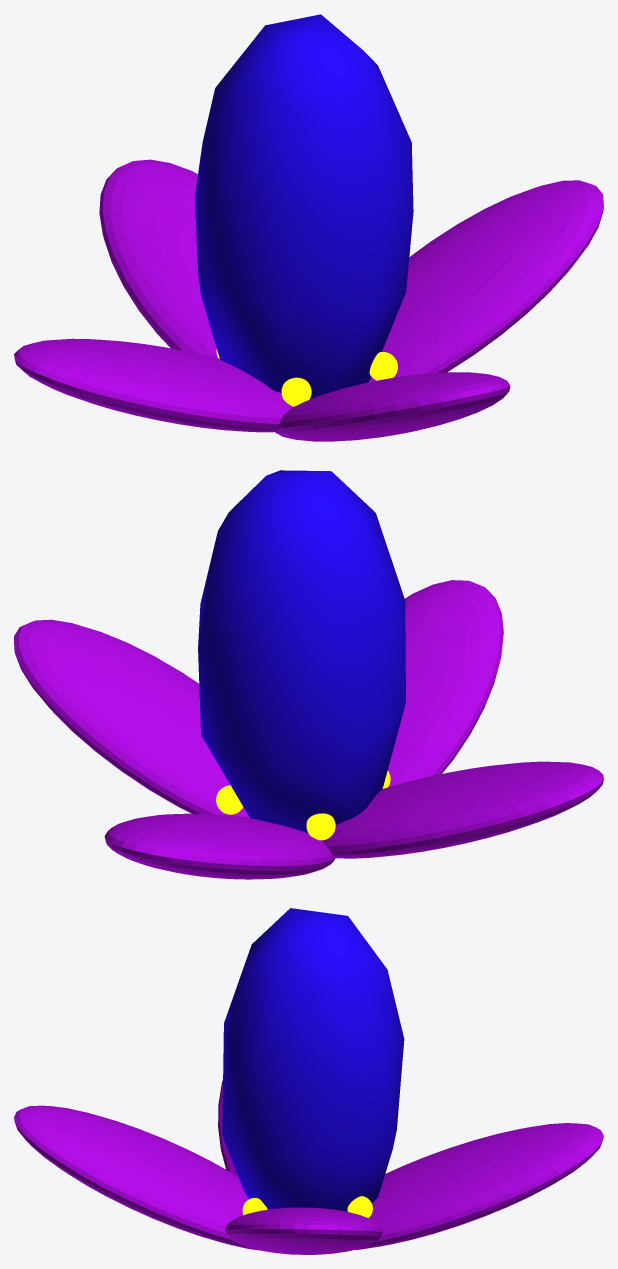
File: Fruit.fbx
The picture shows the model from 3 angles, top to bottom: view 1: azimuth 30°, elevation 25°; view 2: azimuth 150°, elevation 25°; view 3: azimuth 270°, elevation 25°; orthographic projection. The views are drawn at different scales.
Visible parts, largest first — view 1: Sphere.007; view 2: Sphere.007; view 3: Sphere.007.
Part boxes in pixels (box(x1,y1,x2,y2)): Sphere.007: box(14, 14, 603, 441); Sphere.007: box(14, 470, 603, 879); Sphere.007: box(14, 908, 603, 1254).
Bounding box in the file's own units: 726 × 461 × 747.
